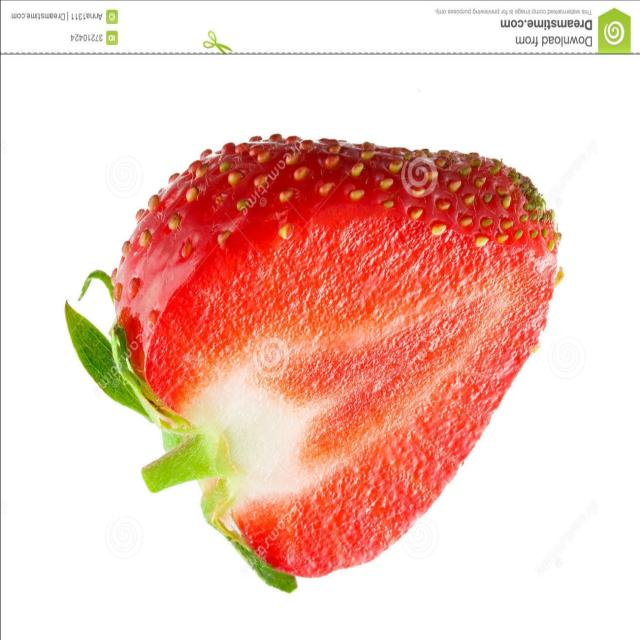strawberry: (56, 115, 582, 580)
